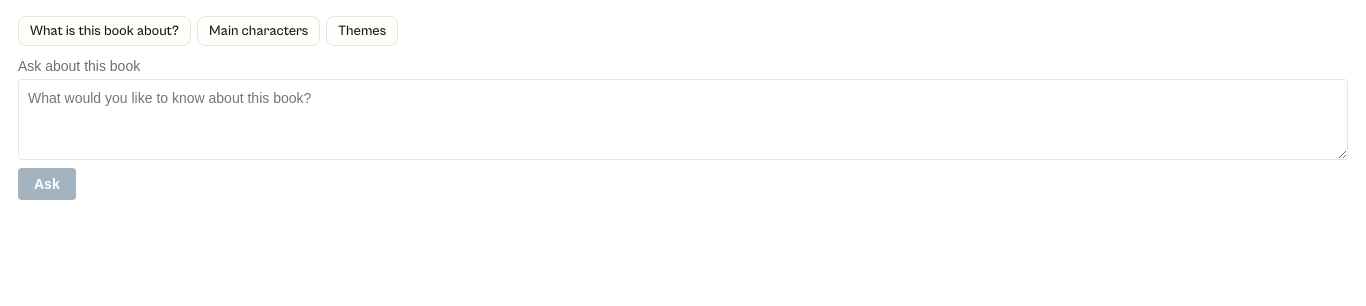
it: AiPanel › shows the response region with accessible label
In the text box named "your question": x=683, y=120 [18,79,1348,160], type "Tell me more"
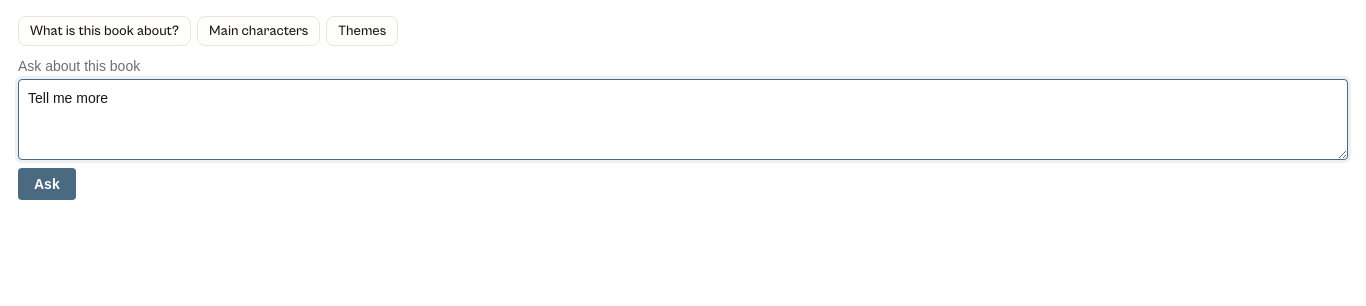
Click the button "Ask": x=47, y=184 [18,168,76,200]
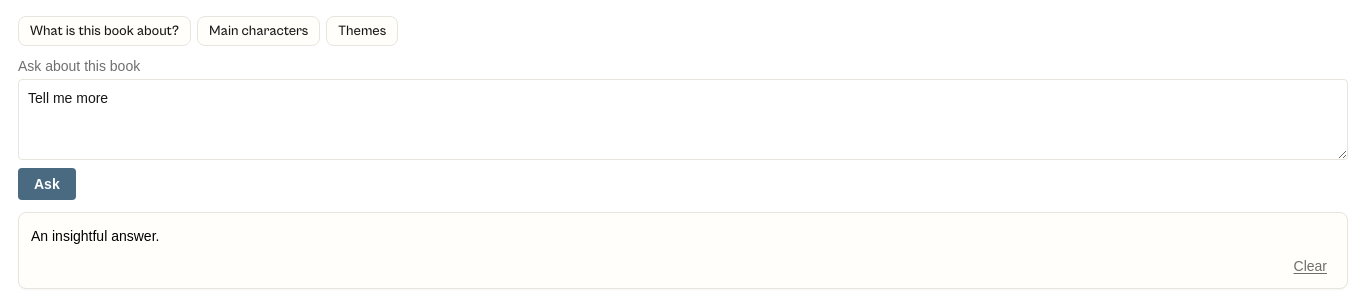
expect the element named "ai response" is shown: met, box [18,212,1348,289]
